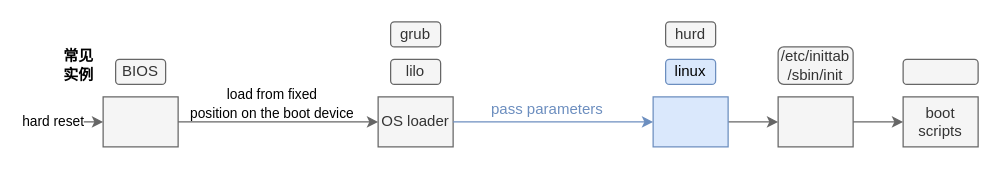
This 1000x170 diagram has some shape labels left out. The shapes that lost their labels are listed below. From the top down, each one's centre as x and y in pixels, then its label:
the point at 940,71: /etc/init.d
the point at 140,121: hardware
the point at 690,121: kernel
the point at 815,121: root user-space process
